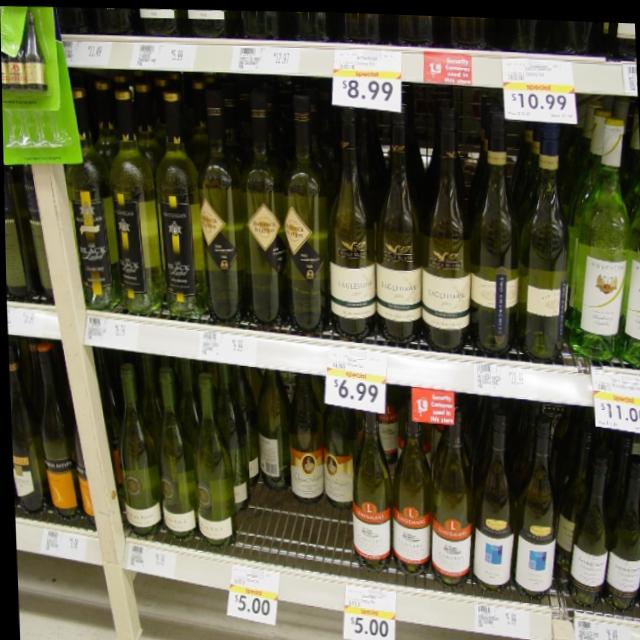q175: (422, 413, 479, 582), (342, 411, 389, 571), (387, 420, 435, 575)
